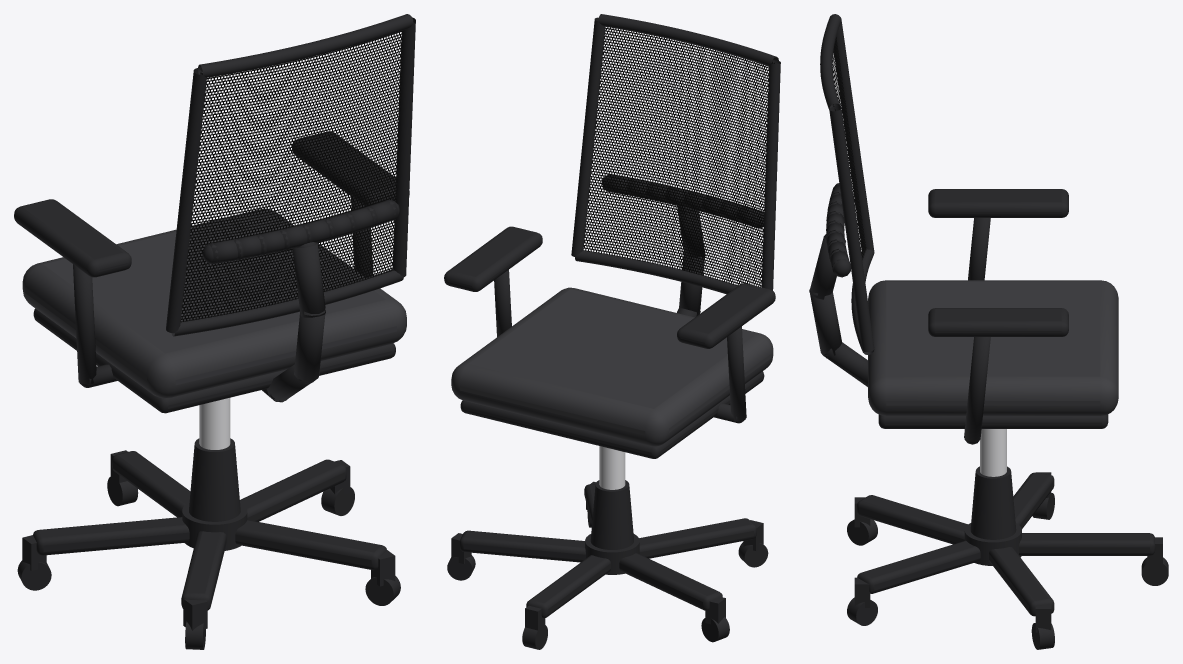
The model's file is office_chair.glb.
3 views of the same model, side by side, from view 1: azimuth 30°, elevation 25°; view 2: azimuth 150°, elevation 25°; view 3: azimuth 270°, elevation 25° (orthographic). The views are drawn at different scales.
Parts seen in each view (by area): view 1: chair_mesh, chair_black, chair_fabric, black_plastic, chrome; view 2: chair_mesh, chair_fabric, chair_black, black_plastic, chrome; view 3: chair_fabric, chair_black, black_plastic, chair_mesh, chrome.
Boxes of the visible parts, <box> form: chair_mesh: <box>180,30,403,322</box>; chair_black: <box>14,14,415,402</box>; chair_fabric: <box>22,208,406,398</box>; black_plastic: <box>17,308,400,649</box>; chrome: <box>199,398,230,449</box>; chair_mesh: <box>583,27,774,286</box>; chair_fabric: <box>451,287,773,446</box>; chair_black: <box>444,14,780,423</box>; black_plastic: <box>447,371,768,649</box>; chrome: <box>599,446,625,489</box>; chair_fabric: <box>868,280,1118,415</box>; chair_black: <box>809,14,1068,444</box>; black_plastic: <box>847,414,1168,649</box>; chair_mesh: <box>832,37,866,259</box>; chrome: <box>980,429,1006,476</box>.
Bounding box in the file's own units: 0.6484 × 1.11 × 0.6889.
5 materials, 1 textured.
